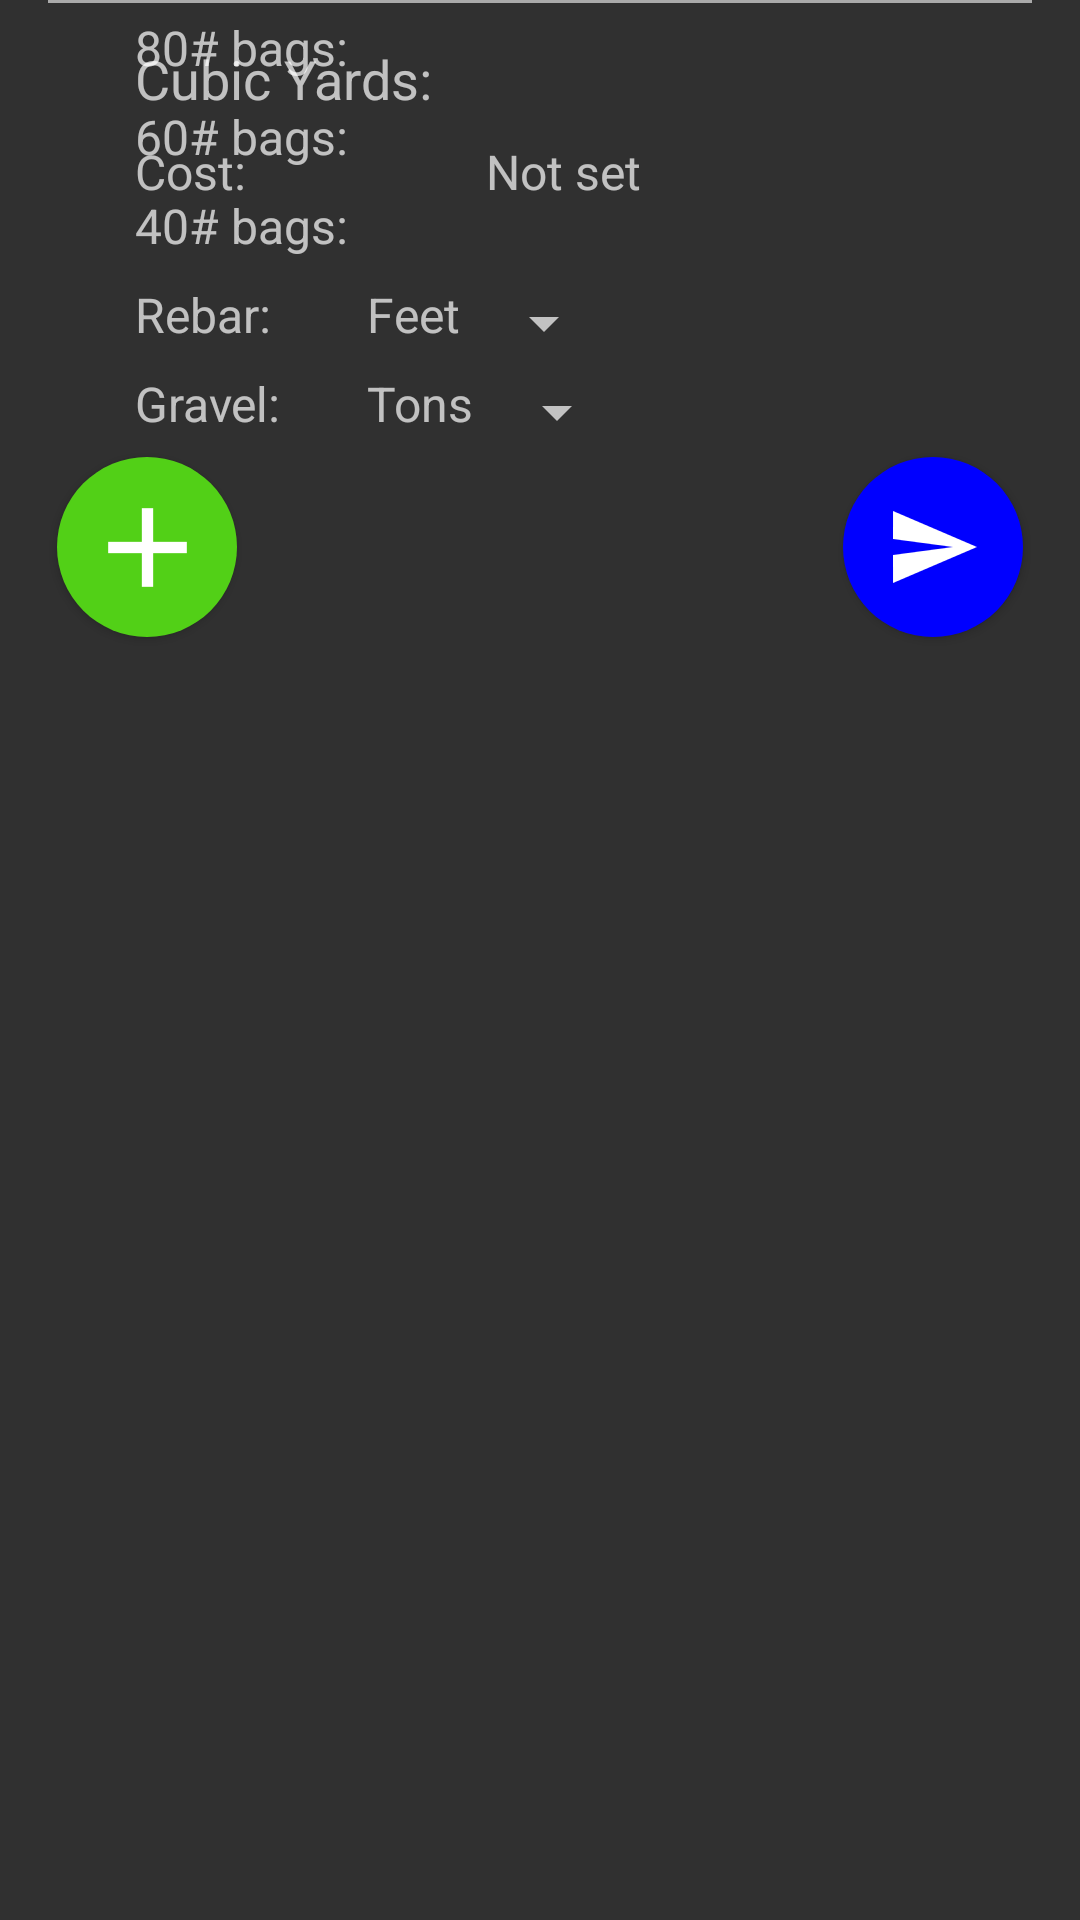

Named icons in this screenshot (1080*1920) and their bounding boxes, (left=x1, top=y1, right=x2, bottom=y2):
add calculation: (left=57, top=457, right=237, bottom=637)
